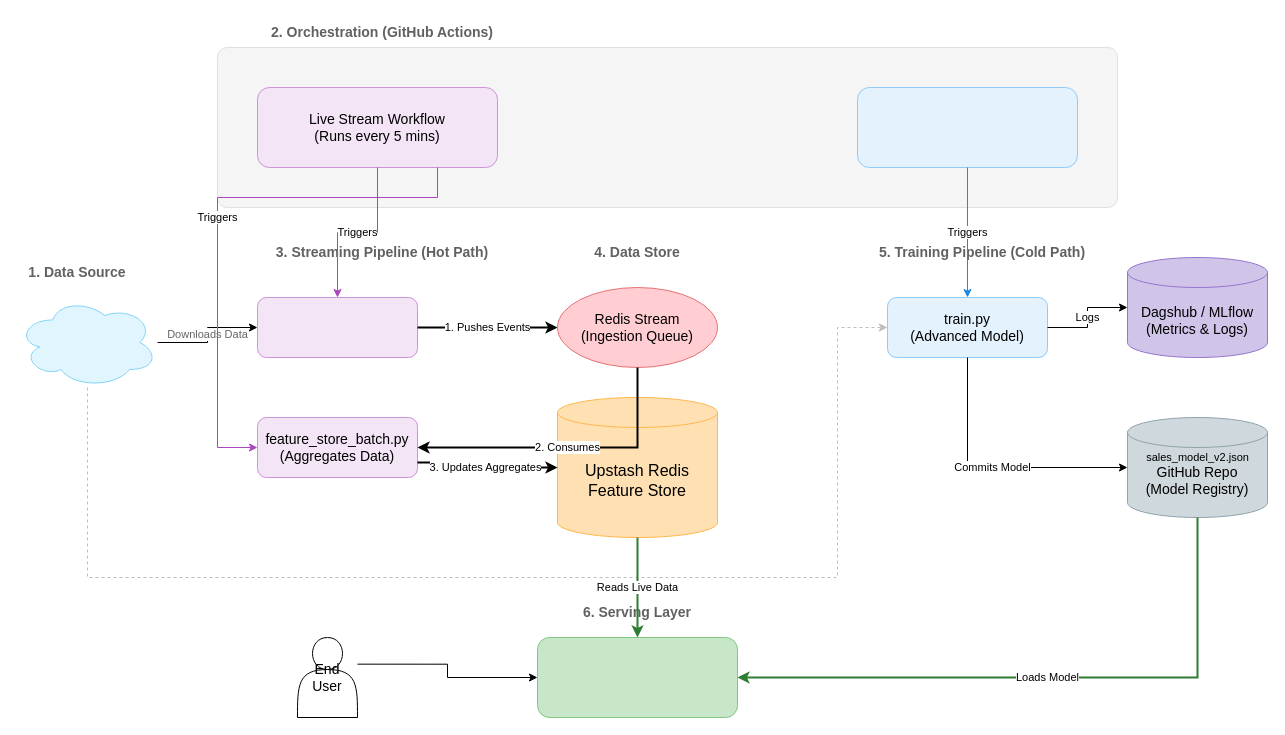
Image size: 1285x735. Some labels were removed from this diagram. The shapes that lost their labels are listed below. From the top down, each one's centre as x and y in pixels, then its label:
At pixel 967 127: "Nightly Retraining (Runs daily at 00:00)".
At pixel 87 342: "Kaggle API".
At pixel 337 327: "producer_batch.py (Simulates Sales)".
At pixel 637 677: "Streamlit Dashboard".
